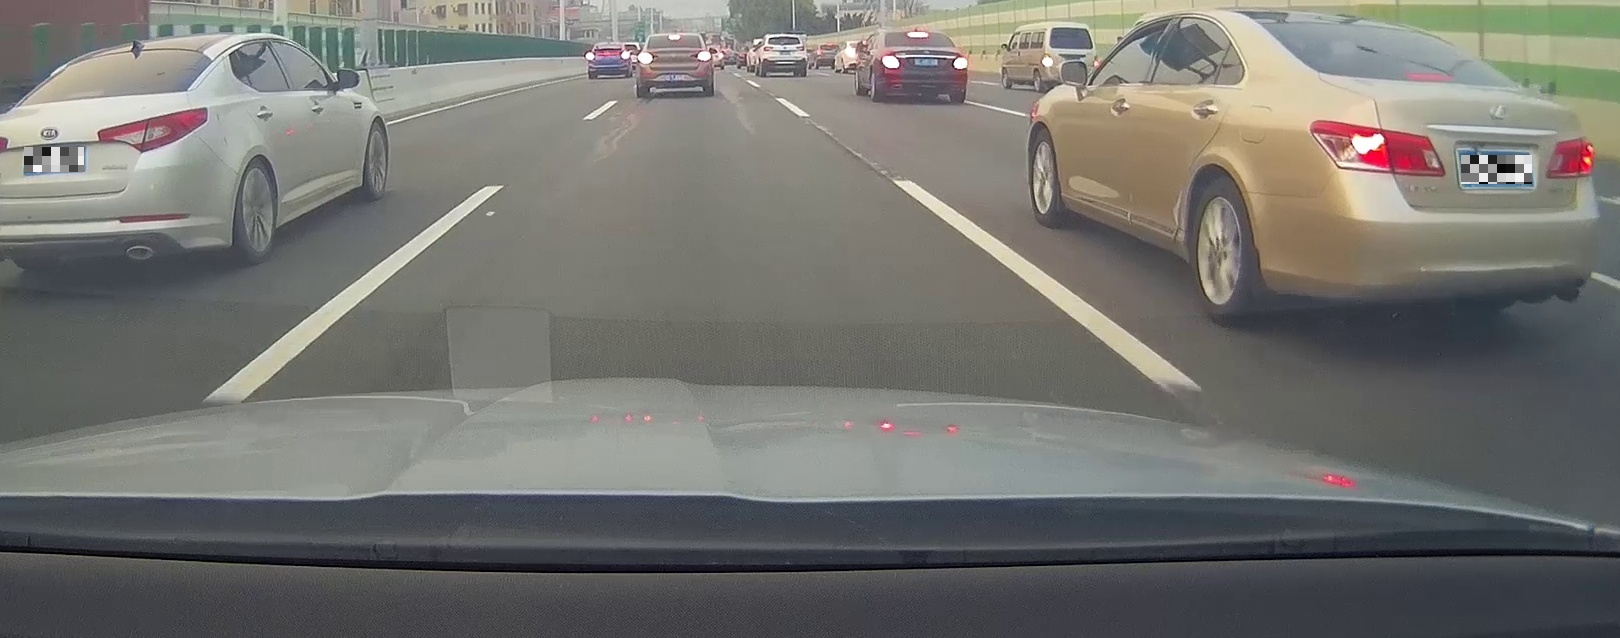L_light: (1308, 119, 1445, 176), (637, 51, 658, 64), (881, 56, 900, 69)
R_light: (1545, 132, 1596, 179), (692, 50, 711, 61), (952, 57, 967, 69)
T_light: (1407, 70, 1453, 82), (907, 33, 927, 36), (668, 36, 680, 39)
day-brake: (1244, 12, 1601, 324), (875, 28, 968, 104), (636, 32, 712, 97)
plate_1: (24, 147, 84, 172)
plate_2: (1461, 155, 1532, 184)
